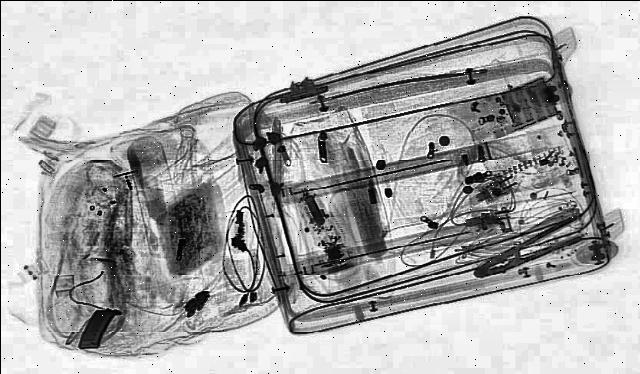Pliers: (458, 213, 600, 283)
